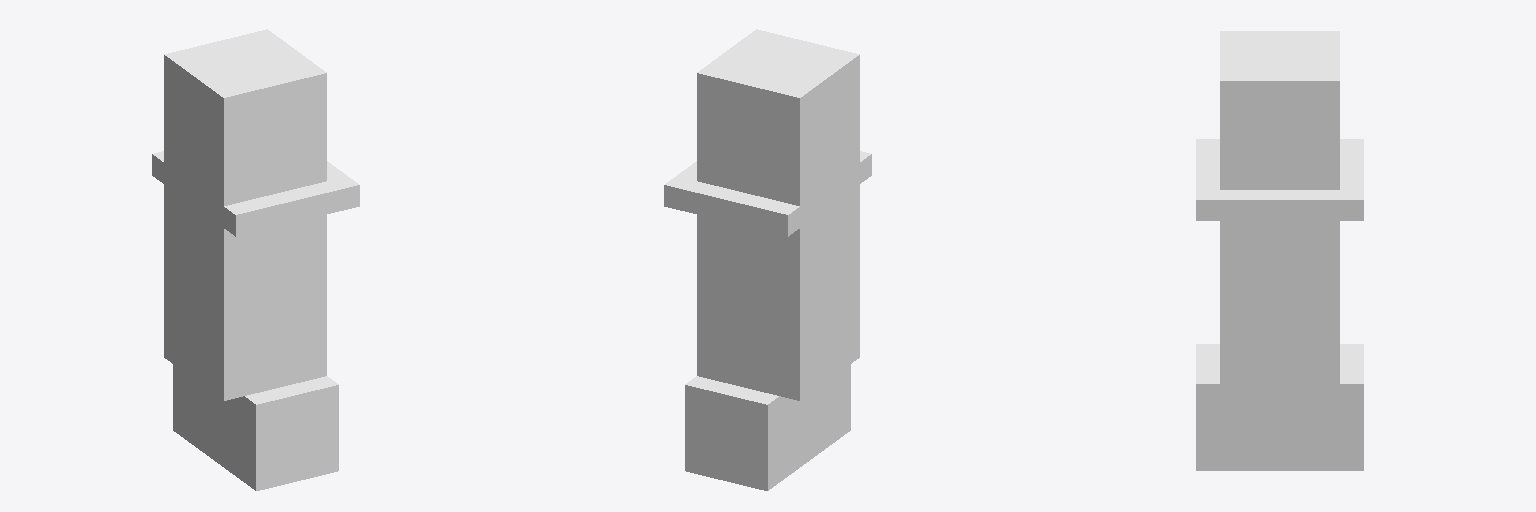
Rendered from l_ryka.obj.
The picture shows the model from 3 angles: view 1: azimuth 30°, elevation 25°; view 2: azimuth 150°, elevation 25°; view 3: azimuth 270°, elevation 25°; orthographic projection.
Visible parts, largest first — view 1: object 1; view 2: object 1; view 3: object 1.
Part boxes in pixels (x1,y1,x2,y2): object 1: (152,29,359,490); object 1: (664,29,871,490); object 1: (1196,31,1363,470).
Bounding box in the file's own units: 0.6 × 1.8 × 0.7.